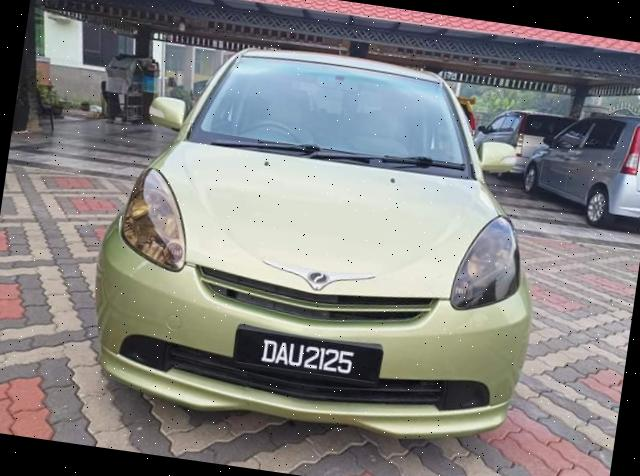License_Plate: (238, 331, 389, 390)
car: (63, 17, 567, 459)
